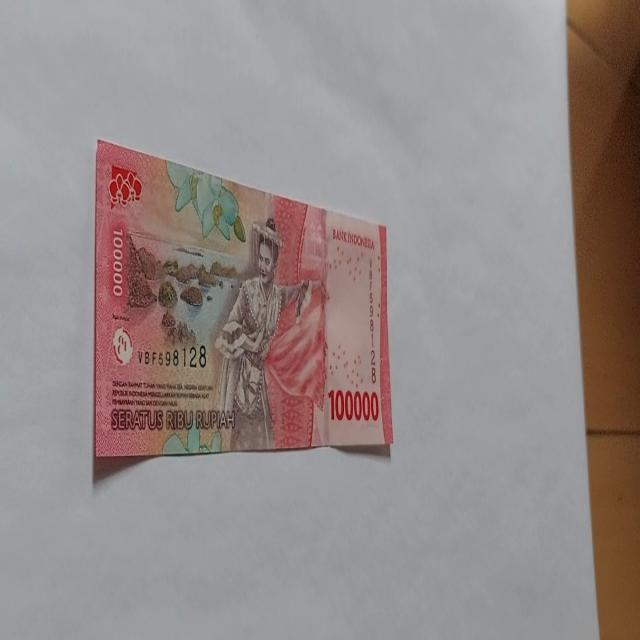seratus ribu rupiah: (92, 138, 394, 462), (212, 216, 314, 451)
